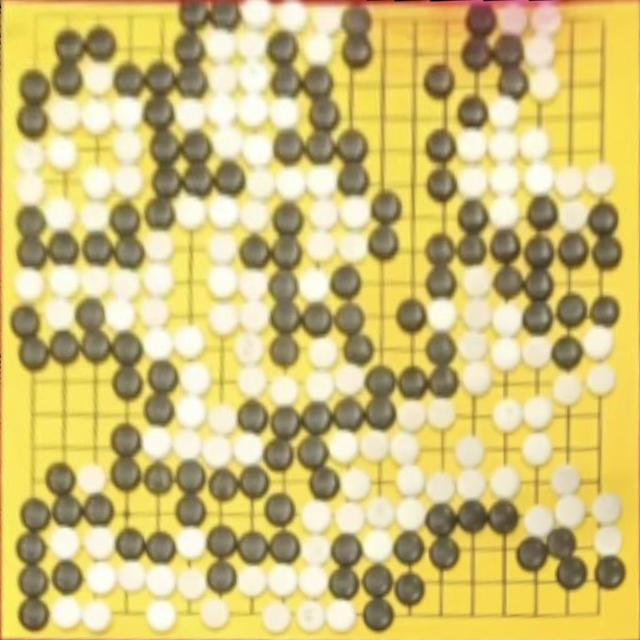blackstone: (214, 161, 247, 196), (176, 64, 209, 98), (521, 300, 554, 334), (84, 26, 117, 60), (52, 61, 84, 96), (488, 500, 520, 535), (425, 502, 457, 537), (112, 331, 144, 366), (271, 235, 303, 270), (456, 500, 489, 533), (526, 196, 558, 230), (273, 130, 305, 164), (338, 161, 370, 195), (557, 233, 589, 267), (298, 435, 330, 469), (522, 268, 554, 302), (551, 337, 583, 371), (18, 337, 50, 371), (83, 492, 115, 526), (462, 36, 494, 70), (546, 527, 578, 561), (517, 537, 549, 571), (147, 360, 179, 393), (181, 130, 213, 163), (556, 294, 588, 327), (49, 331, 81, 364), (208, 468, 240, 501), (144, 393, 176, 426), (207, 526, 239, 559), (206, 561, 238, 594), (466, 3, 498, 36), (112, 235, 144, 268), (237, 399, 269, 432), (113, 366, 144, 400), (111, 457, 142, 491), (362, 564, 393, 598), (52, 560, 83, 594), (426, 332, 456, 367), (240, 234, 270, 269), (272, 202, 304, 234), (457, 96, 489, 128), (145, 63, 177, 95), (114, 64, 146, 96), (174, 32, 206, 64), (456, 234, 488, 266), (425, 267, 457, 299), (175, 460, 207, 492), (331, 534, 363, 566), (556, 556, 588, 588), (148, 133, 180, 165), (182, 164, 214, 196), (333, 398, 365, 430), (308, 98, 340, 130), (457, 199, 488, 232), (427, 168, 458, 201), (110, 202, 141, 235), (270, 406, 301, 439), (368, 226, 399, 259), (494, 266, 525, 299), (17, 104, 48, 137), (21, 499, 52, 532), (176, 493, 207, 526), (363, 598, 394, 631), (19, 598, 50, 631), (372, 190, 402, 224), (426, 128, 456, 162), (524, 235, 554, 269), (490, 228, 520, 262), (76, 297, 106, 331), (302, 402, 332, 436), (591, 235, 621, 269), (306, 130, 336, 164), (336, 131, 368, 162), (267, 31, 298, 63), (302, 303, 333, 335), (344, 332, 375, 364), (265, 494, 296, 526), (342, 35, 374, 66), (493, 35, 524, 67), (54, 29, 85, 61), (270, 531, 301, 563), (429, 537, 460, 569), (238, 532, 269, 564), (329, 567, 360, 599), (48, 233, 80, 264), (46, 463, 76, 496), (498, 65, 528, 98), (588, 203, 618, 236), (20, 70, 50, 103), (270, 334, 300, 367), (394, 531, 424, 564), (82, 232, 112, 265), (331, 266, 362, 297), (111, 425, 142, 456), (144, 463, 175, 494), (144, 198, 175, 229), (396, 300, 426, 332), (10, 306, 40, 338), (589, 296, 619, 328), (240, 466, 270, 498), (270, 302, 302, 332), (310, 466, 340, 498), (366, 397, 396, 429), (116, 528, 146, 560), (146, 532, 178, 562), (19, 565, 49, 597), (594, 556, 624, 588), (177, 0, 209, 30), (428, 366, 458, 398), (398, 366, 427, 399), (303, 66, 334, 96), (424, 65, 454, 96), (144, 97, 174, 128), (16, 533, 46, 564), (334, 303, 365, 333), (271, 66, 302, 96), (81, 332, 110, 364), (426, 235, 456, 265), (366, 366, 396, 396), (152, 167, 182, 197), (16, 238, 46, 268), (264, 441, 294, 471), (395, 573, 424, 604), (268, 271, 298, 300), (53, 496, 82, 526), (342, 8, 372, 36), (16, 206, 44, 236), (210, 2, 241, 29)
whitestone: (582, 325, 616, 361), (461, 361, 494, 397), (528, 67, 562, 101), (145, 600, 179, 634), (523, 162, 556, 196), (456, 128, 489, 162), (175, 528, 208, 562), (554, 494, 587, 528), (51, 597, 84, 631), (234, 332, 267, 366), (295, 599, 328, 633), (584, 362, 616, 397), (552, 373, 584, 408), (200, 597, 232, 632), (46, 136, 78, 170), (426, 298, 458, 332), (490, 337, 522, 371), (554, 164, 586, 198), (584, 162, 616, 196), (492, 399, 524, 433), (522, 396, 554, 430), (522, 335, 554, 369), (489, 465, 521, 499), (522, 431, 554, 465), (524, 35, 556, 69), (523, 504, 555, 538), (80, 600, 112, 634), (365, 496, 397, 530), (326, 599, 358, 633), (498, 2, 530, 36), (76, 462, 109, 494), (362, 530, 395, 562), (550, 464, 582, 497), (208, 196, 240, 229), (461, 298, 493, 331), (237, 62, 270, 94), (455, 435, 486, 469), (80, 100, 111, 134), (488, 196, 520, 228), (340, 197, 371, 230), (492, 304, 522, 338), (591, 492, 622, 524), (531, 3, 562, 35), (112, 98, 143, 130), (143, 265, 174, 297), (175, 327, 206, 359), (275, 168, 306, 200), (306, 167, 338, 198), (299, 270, 330, 302), (85, 563, 116, 595), (146, 566, 177, 598), (268, 565, 299, 597), (390, 433, 421, 465), (489, 131, 520, 163), (276, 0, 308, 31), (243, 136, 274, 168), (241, 0, 274, 30), (521, 128, 550, 162), (15, 142, 46, 173), (176, 198, 207, 229), (240, 201, 271, 232), (340, 470, 371, 501), (262, 600, 292, 632), (50, 100, 80, 132), (208, 234, 238, 266), (208, 267, 238, 299), (180, 364, 212, 394), (49, 529, 81, 559), (302, 500, 332, 532), (360, 431, 390, 463), (302, 35, 334, 65), (143, 427, 172, 460), (396, 465, 425, 498), (462, 266, 491, 299), (593, 526, 624, 556), (83, 168, 113, 199), (14, 270, 45, 300), (45, 298, 75, 329), (143, 330, 174, 360), (238, 301, 268, 332), (305, 232, 336, 262), (84, 529, 114, 560), (334, 502, 364, 533), (329, 432, 359, 463), (396, 401, 426, 432), (426, 400, 457, 430), (425, 473, 456, 503), (489, 165, 519, 196), (206, 32, 237, 62), (176, 99, 206, 130), (238, 97, 269, 127), (115, 165, 144, 197), (307, 339, 339, 368), (236, 368, 268, 397), (203, 436, 232, 468), (299, 566, 328, 598), (559, 199, 587, 232), (114, 134, 144, 164), (45, 199, 75, 229), (111, 270, 141, 300), (338, 233, 368, 263), (270, 376, 300, 406), (335, 366, 365, 396), (489, 98, 519, 128), (270, 98, 300, 128), (212, 128, 242, 158), (50, 265, 79, 296), (140, 298, 169, 329), (209, 305, 238, 336), (234, 434, 263, 465), (457, 469, 486, 500), (458, 332, 489, 361), (313, 3, 342, 34), (396, 498, 424, 530), (209, 64, 237, 96), (84, 64, 113, 94), (145, 232, 174, 262), (308, 201, 338, 230), (177, 398, 206, 428), (208, 404, 237, 434), (117, 562, 146, 592), (238, 566, 267, 596), (302, 536, 331, 566), (459, 168, 488, 198), (16, 175, 45, 204), (305, 373, 334, 402), (238, 272, 268, 300), (246, 169, 274, 199), (174, 430, 202, 460), (178, 569, 206, 599), (207, 98, 237, 126), (80, 203, 109, 231), (81, 268, 110, 296), (107, 301, 134, 330), (238, 32, 266, 59)
